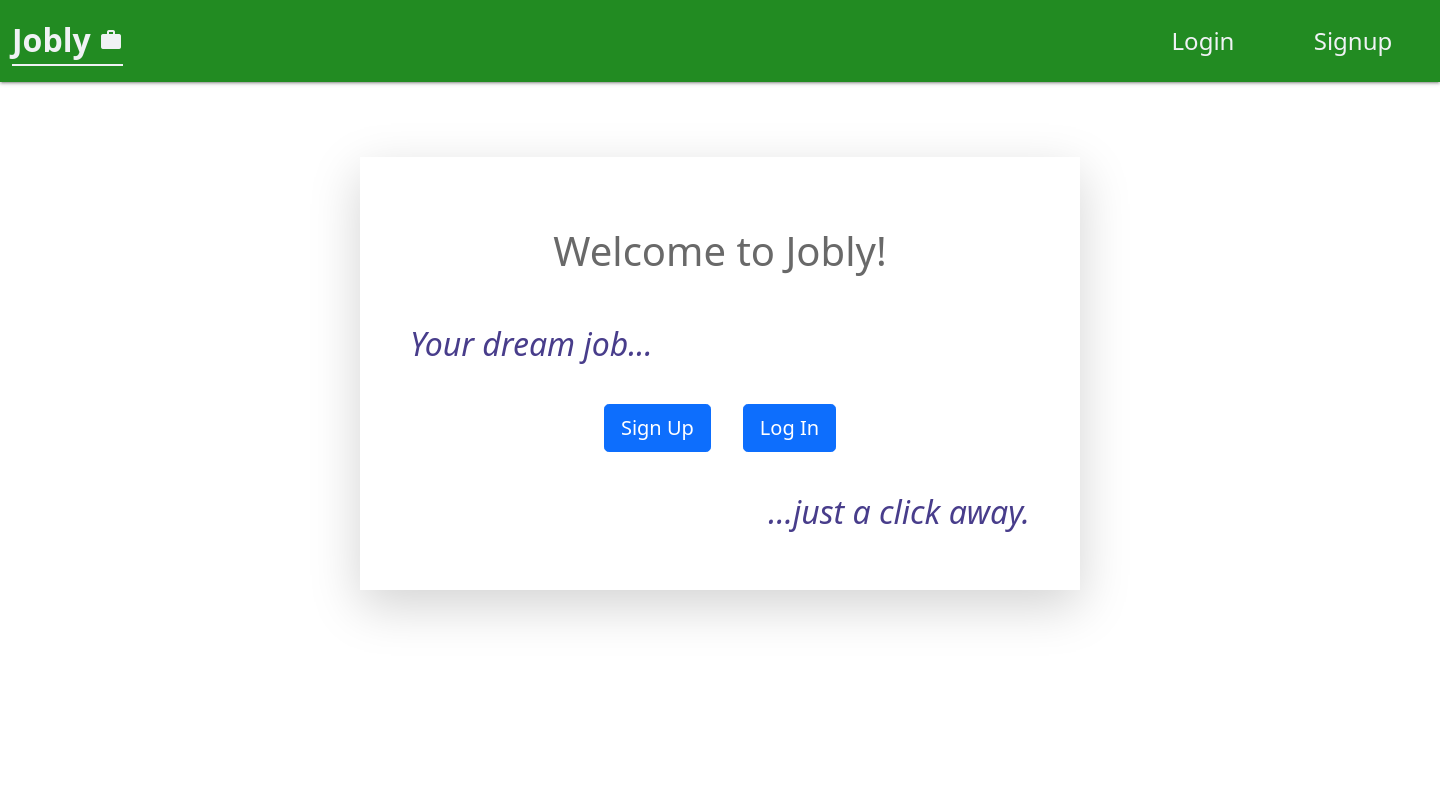
allows a user to signup
Click the button "Sign Up".
click(657, 428)  # box [604,404,711,452]
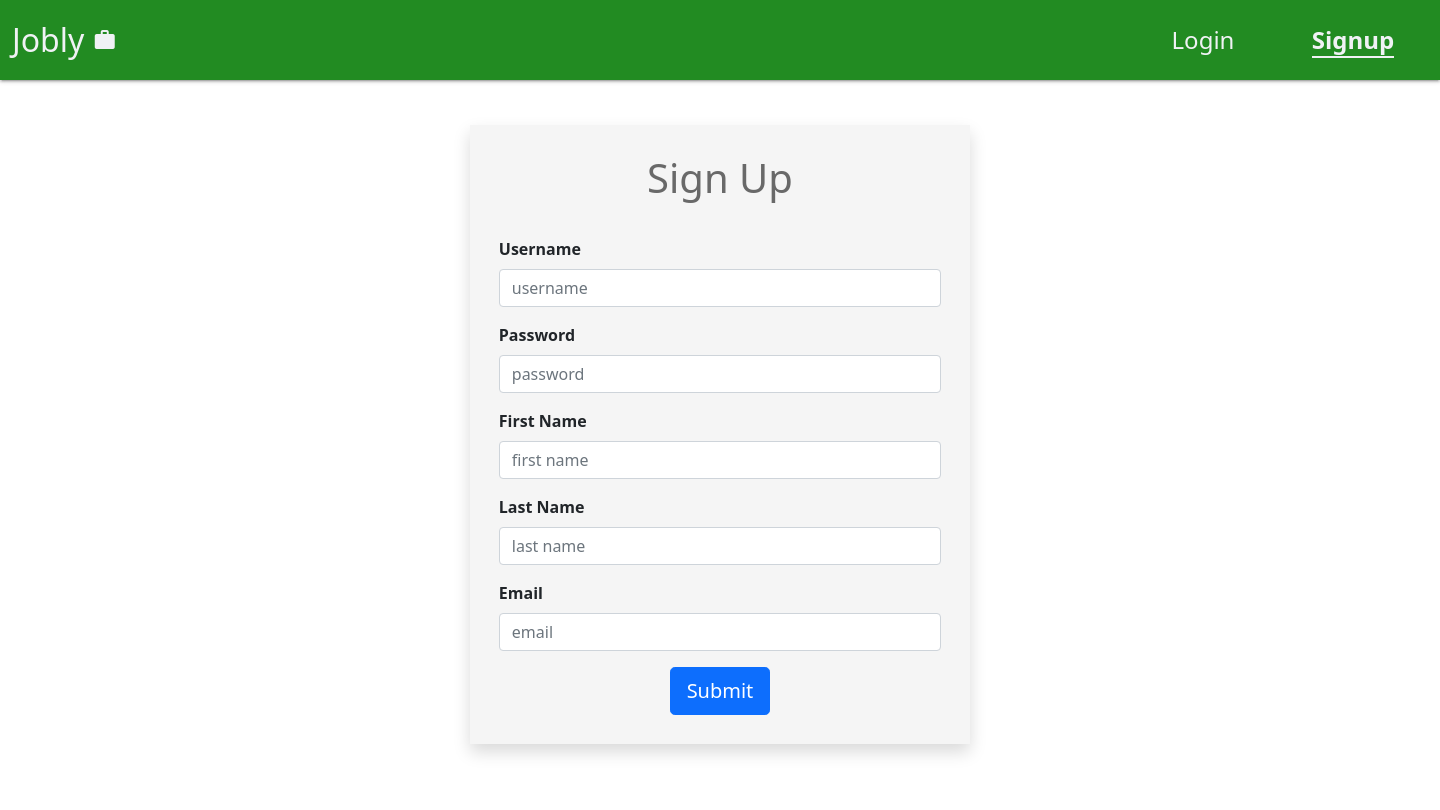
Expected: the heading "Sign Up" is shown, [647,150,793,205]
Type "testusername" into the field labelled "Username".
click(720, 288); type("testusername")  # box [499,269,941,307]
Type "testpassword" into the password field labelled "Password".
click(720, 374); type("testpassword")  # box [499,355,941,393]
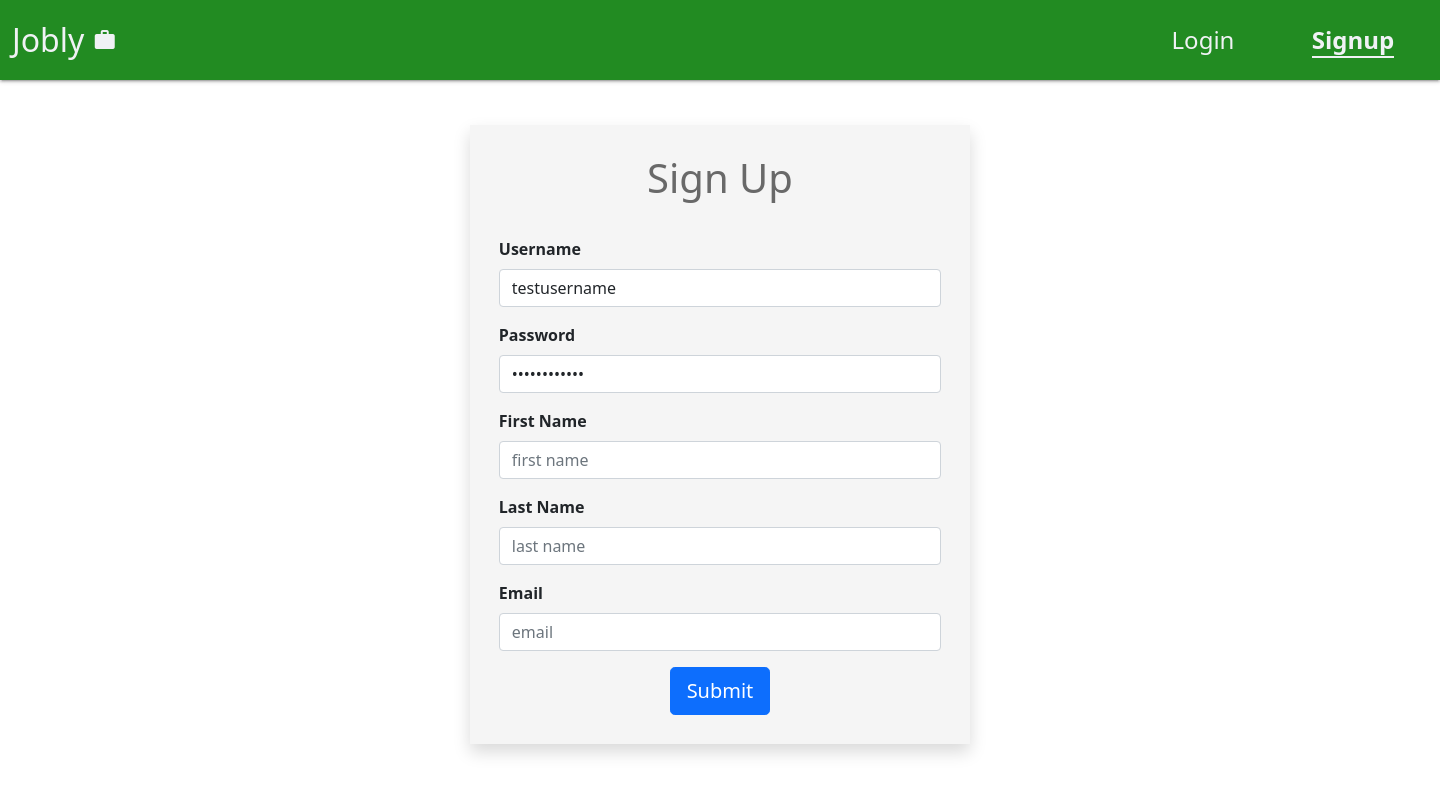
Type "testfirst" into the field labelled "First Name".
click(720, 460); type("testfirst")  # box [499,441,941,479]
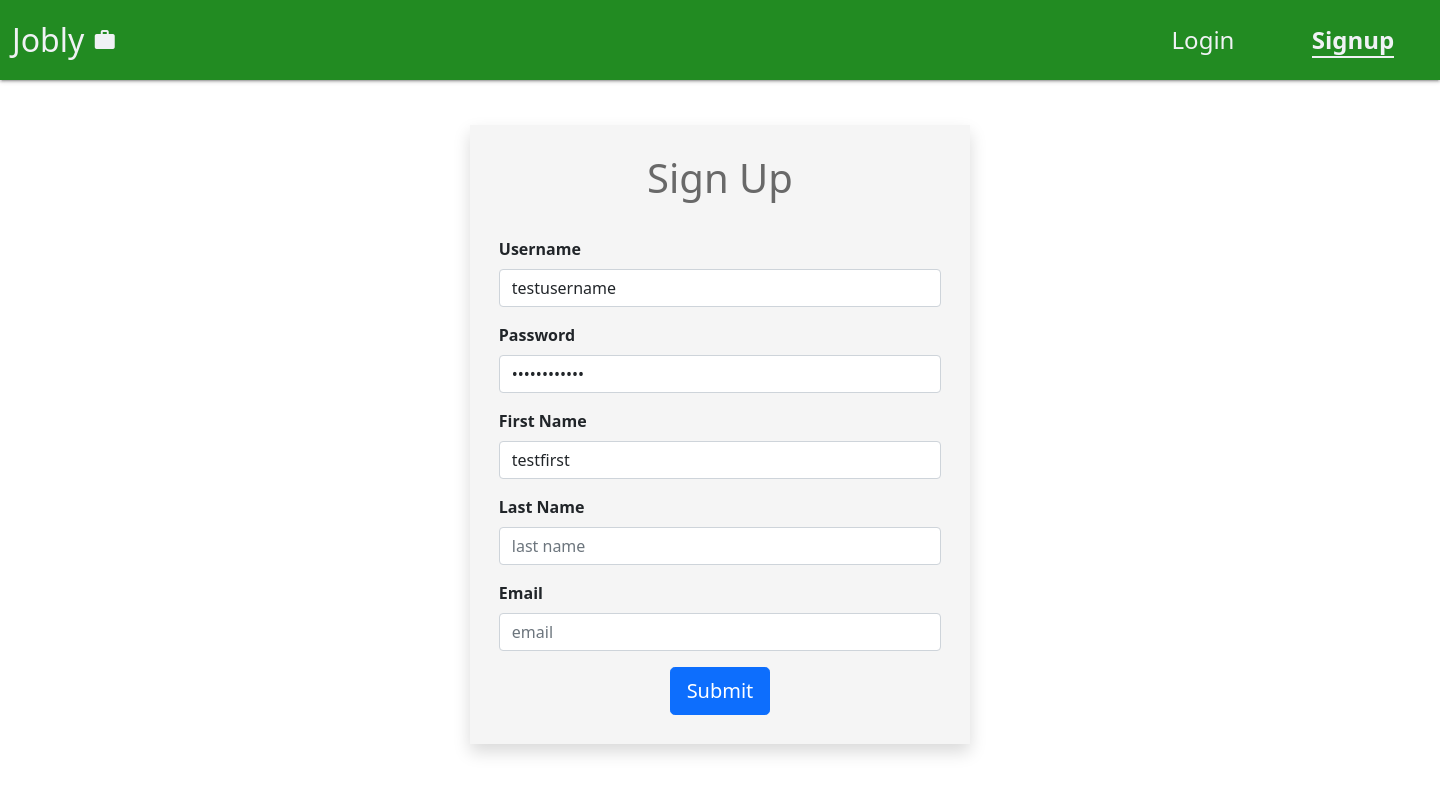
Type "testlast" into the field labelled "Last Name".
click(720, 546); type("testlast")  # box [499,527,941,565]
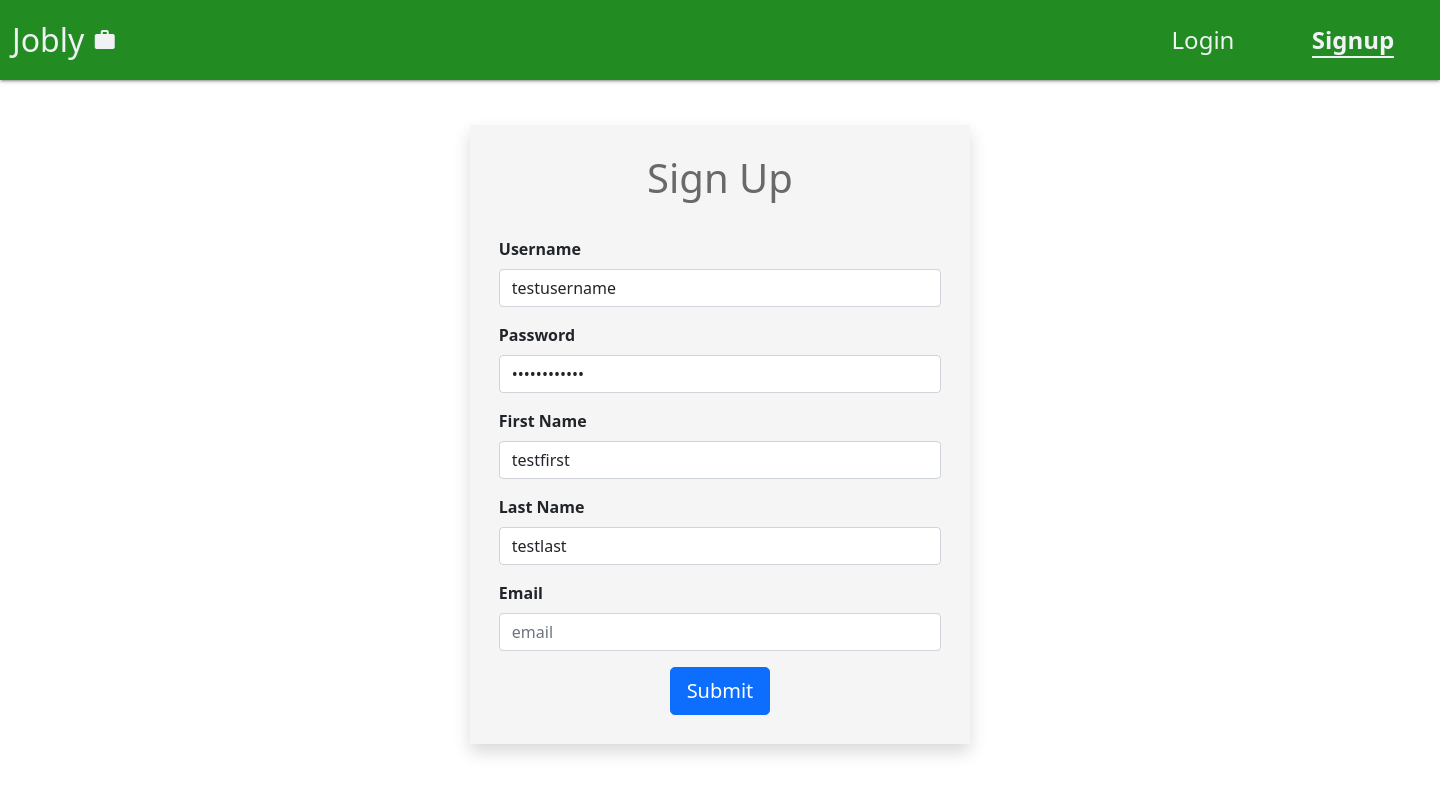
Type "test@test.com" into the field labelled "Email".
click(720, 632); type("test@test.com")  # box [499,613,941,651]
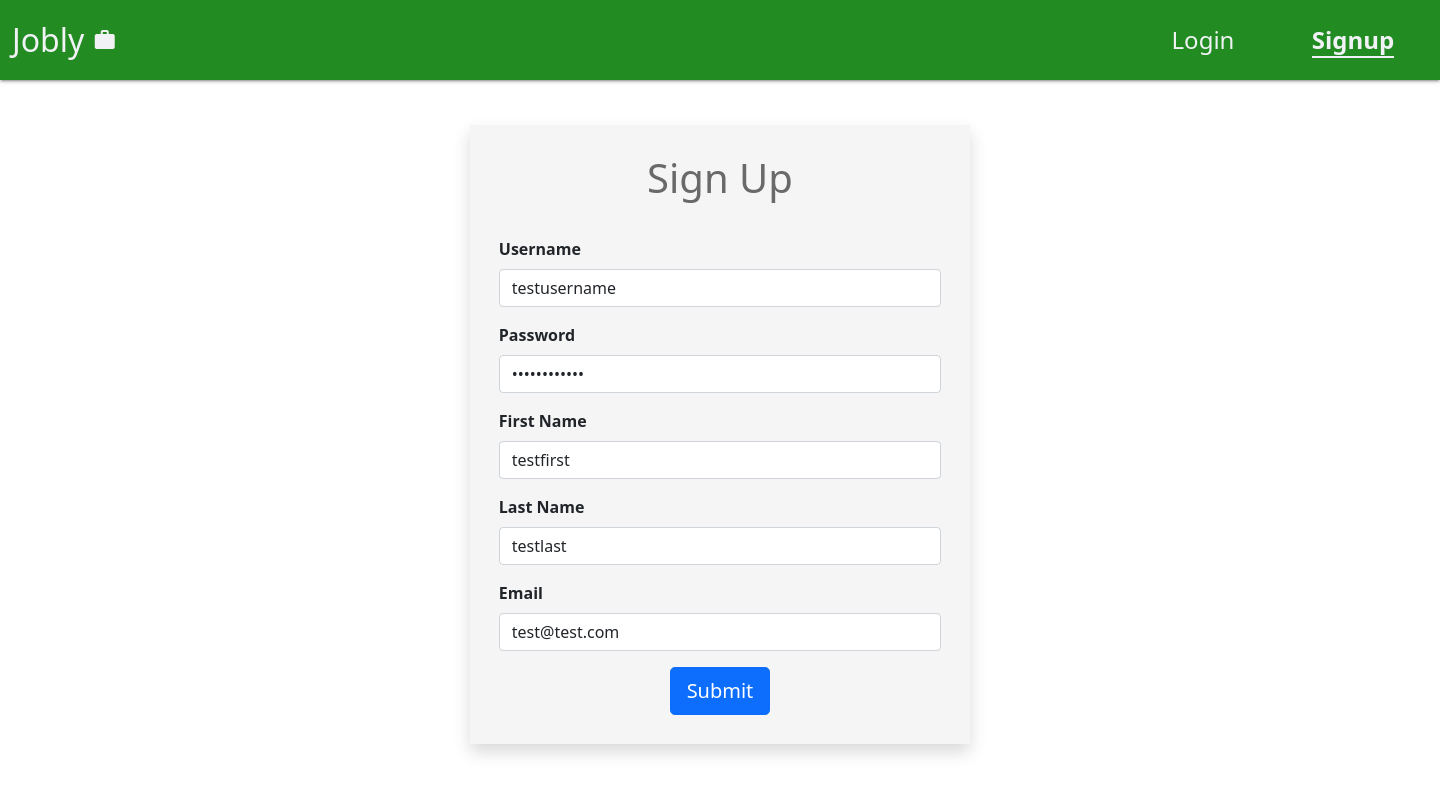
Click the button "Submit".
click(720, 691)  # box [670,667,770,715]
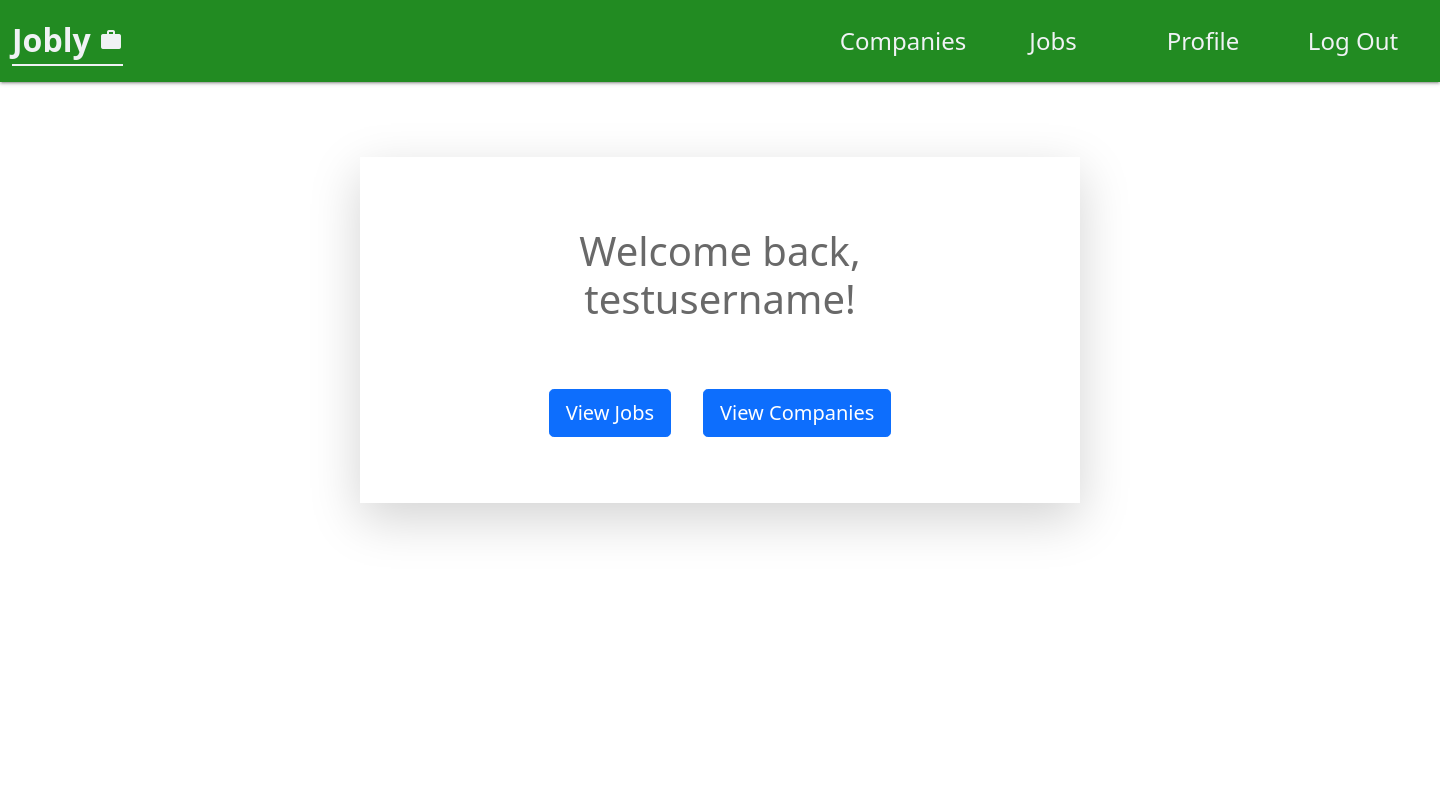
Expected: the heading "Welcome back, testusername!" is shown, [579,223,861,326]
